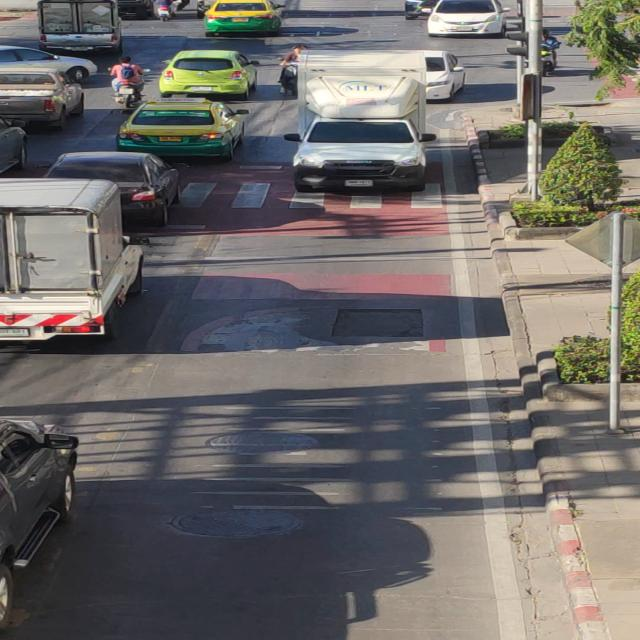car: (291, 47, 435, 194)
